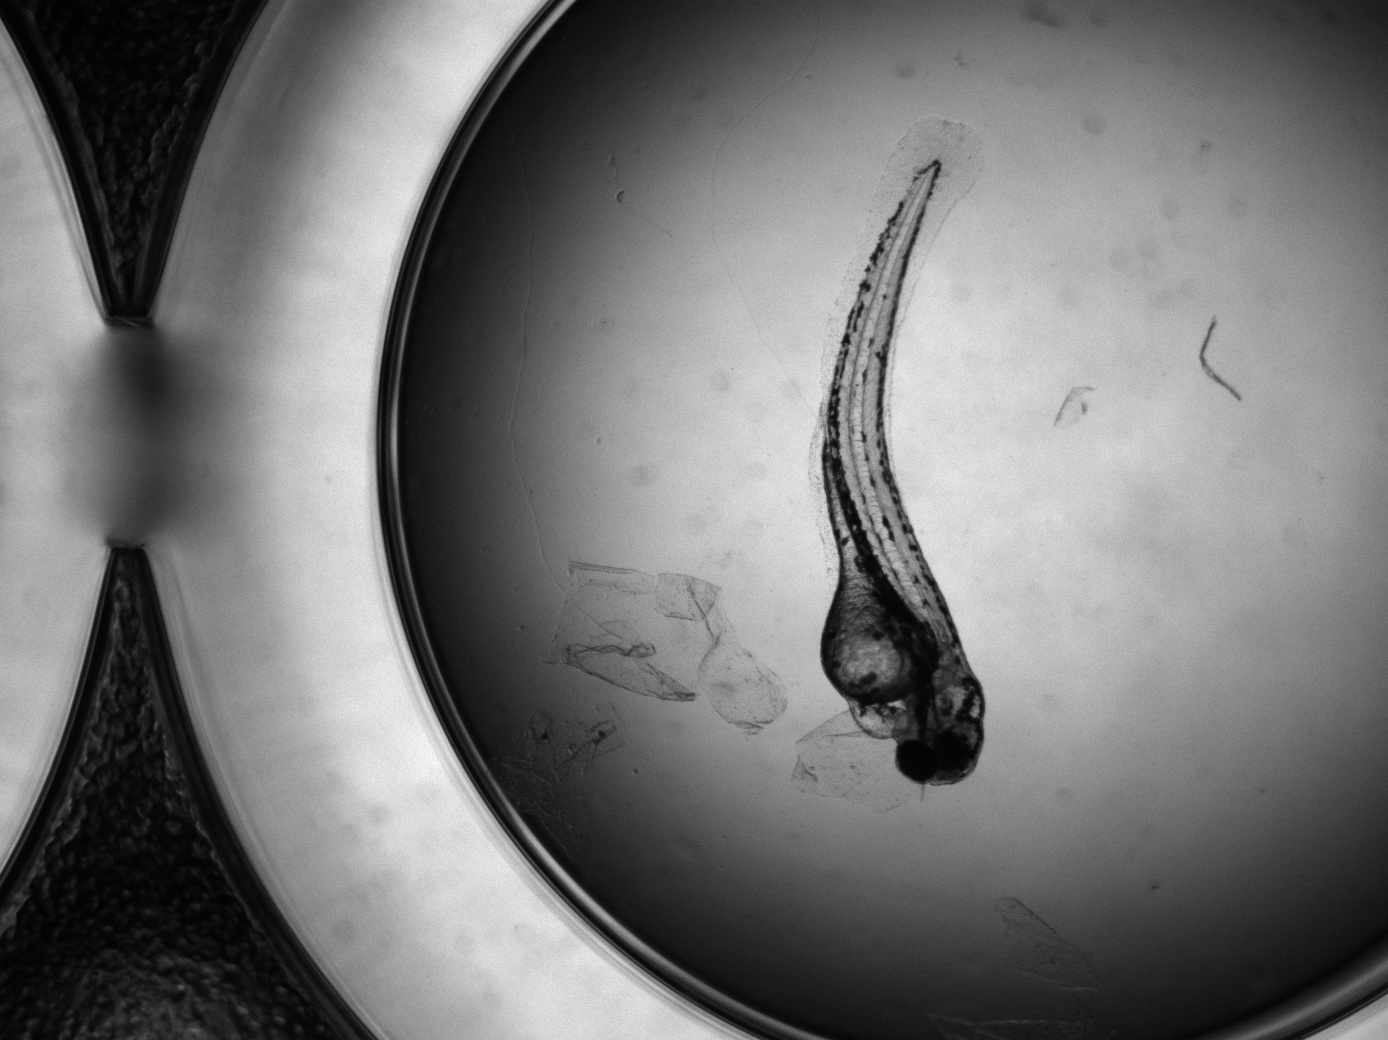debris: (541, 558, 787, 731), (990, 894, 1122, 1040)
embryo: (819, 159, 988, 785)
eye: (895, 741, 935, 784), (933, 732, 970, 771)
yolksac: (820, 582, 935, 704)
